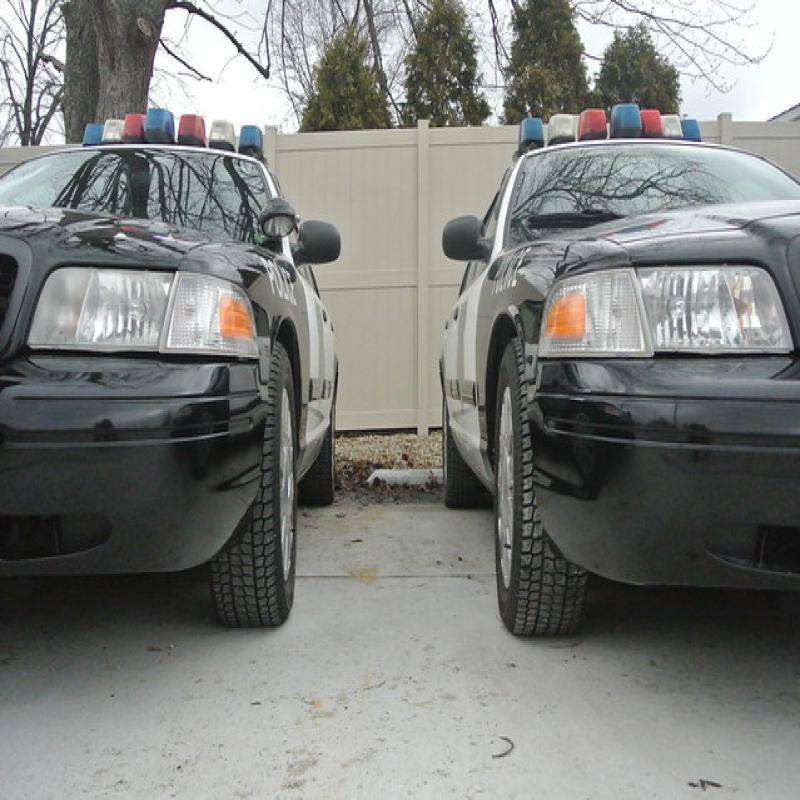AmbulanceSiren: (72, 86, 294, 176)
